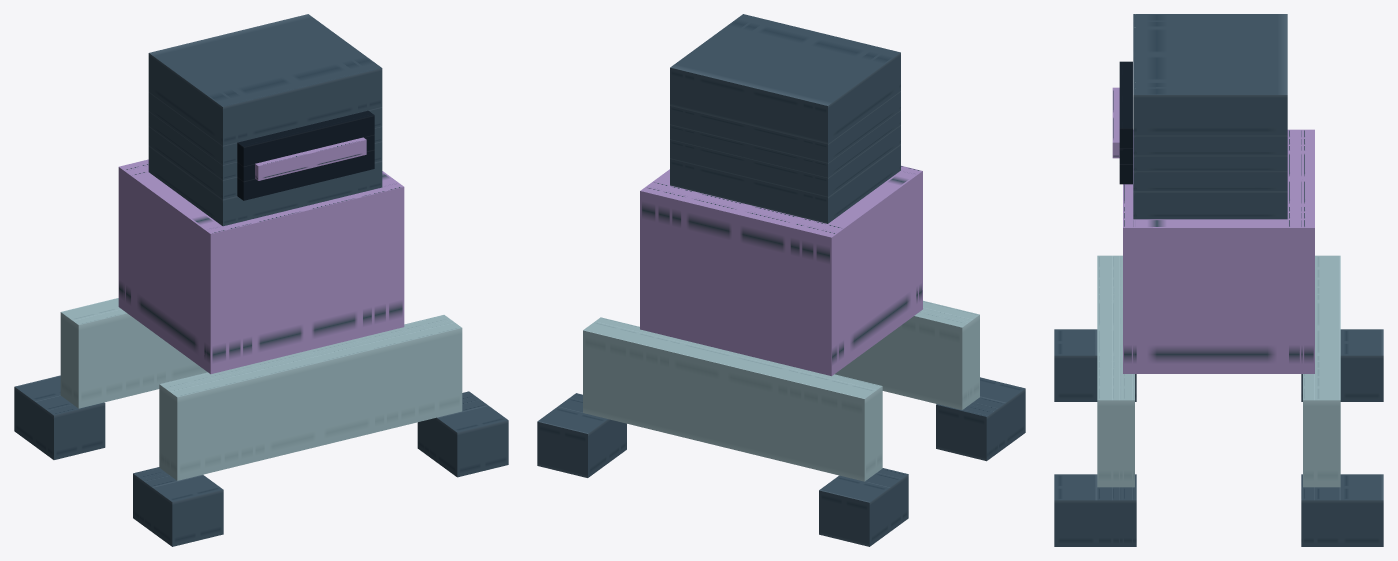
The model's file is sc_robot_skitter.obj.
The picture shows the model from 3 angles, left to right: view 1: azimuth 30°, elevation 25°; view 2: azimuth 150°, elevation 25°; view 3: azimuth 270°, elevation 25°; orthographic projection. The views are drawn at different scales.
Bounding box in the file's own units: 11.8 × 13.1 × 9.6.
Materials: 1 (1 with a texture image).
